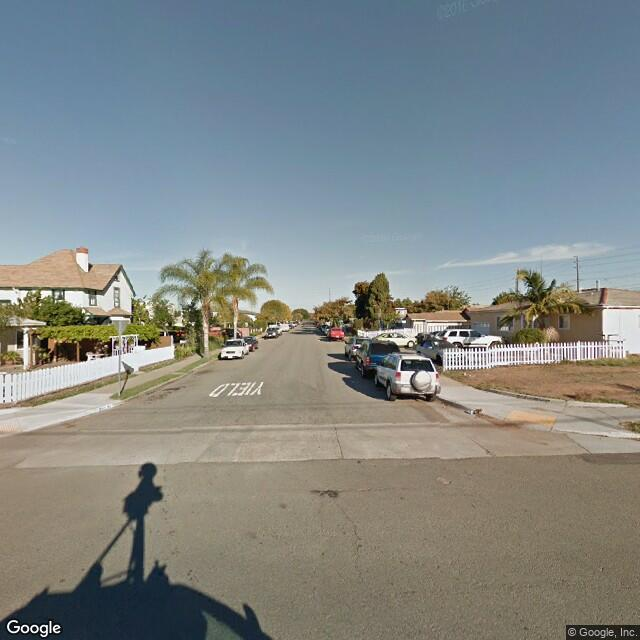litter: (463, 410, 476, 420)
